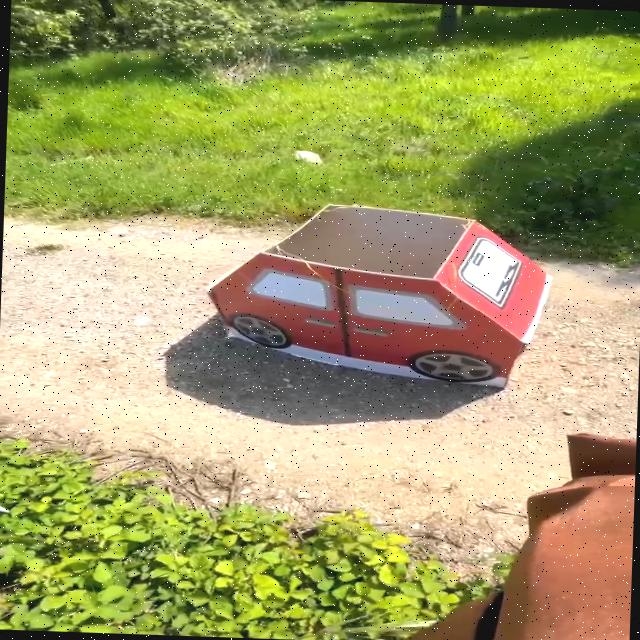red_car: (185, 190, 550, 417)
